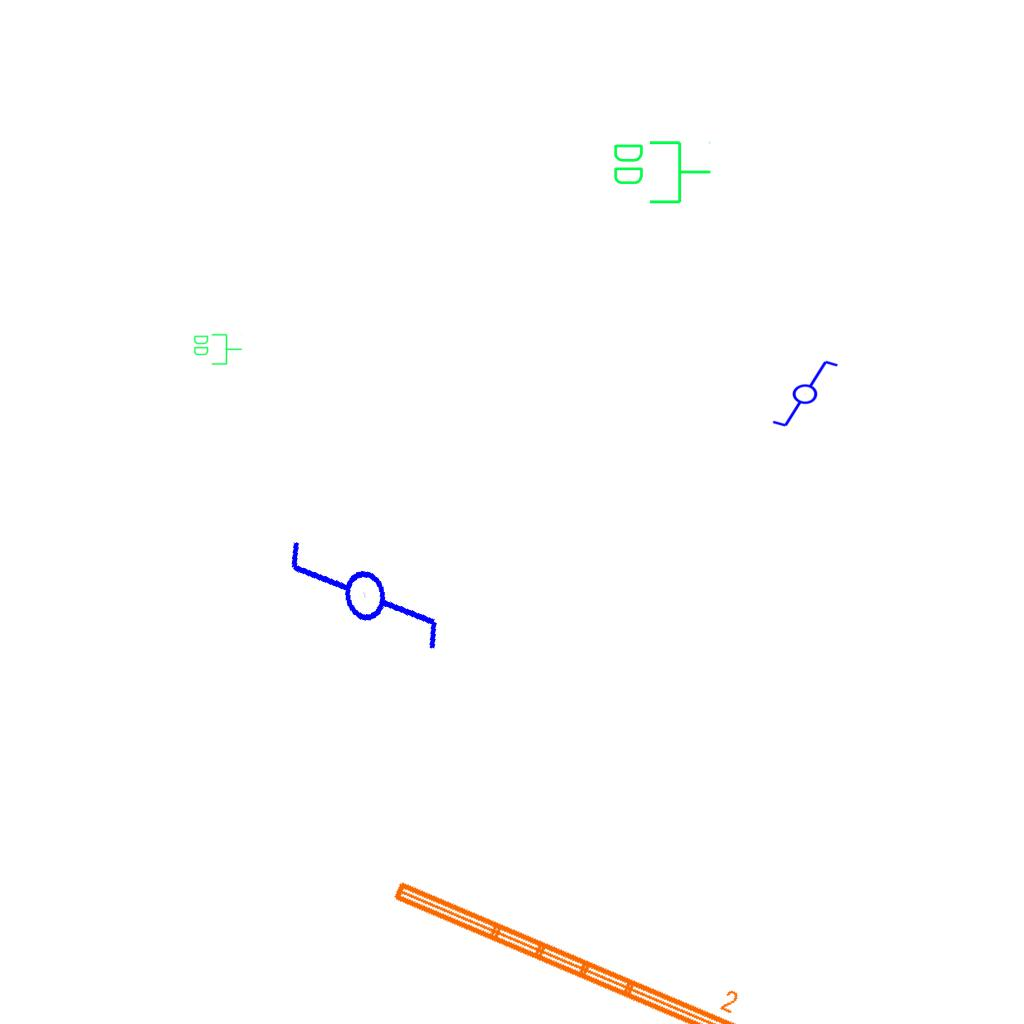Ambulanz_Pendelleuchte_LED: (386, 850, 765, 1024)
Datenanschluss_zweifach: (610, 137, 713, 206), (192, 332, 243, 366)
Wechselschalter: (278, 513, 451, 695), (762, 357, 840, 429)
